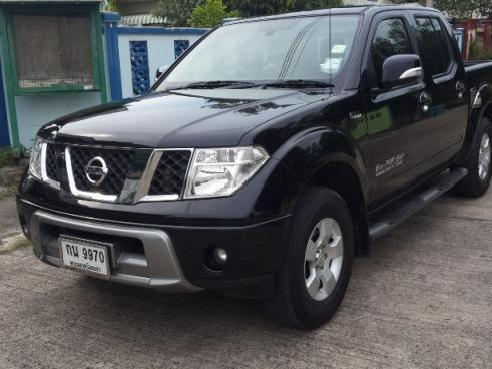pickup: (17, 5, 490, 330)
